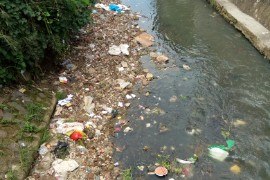trash: (36, 3, 148, 178), (198, 130, 241, 168)
